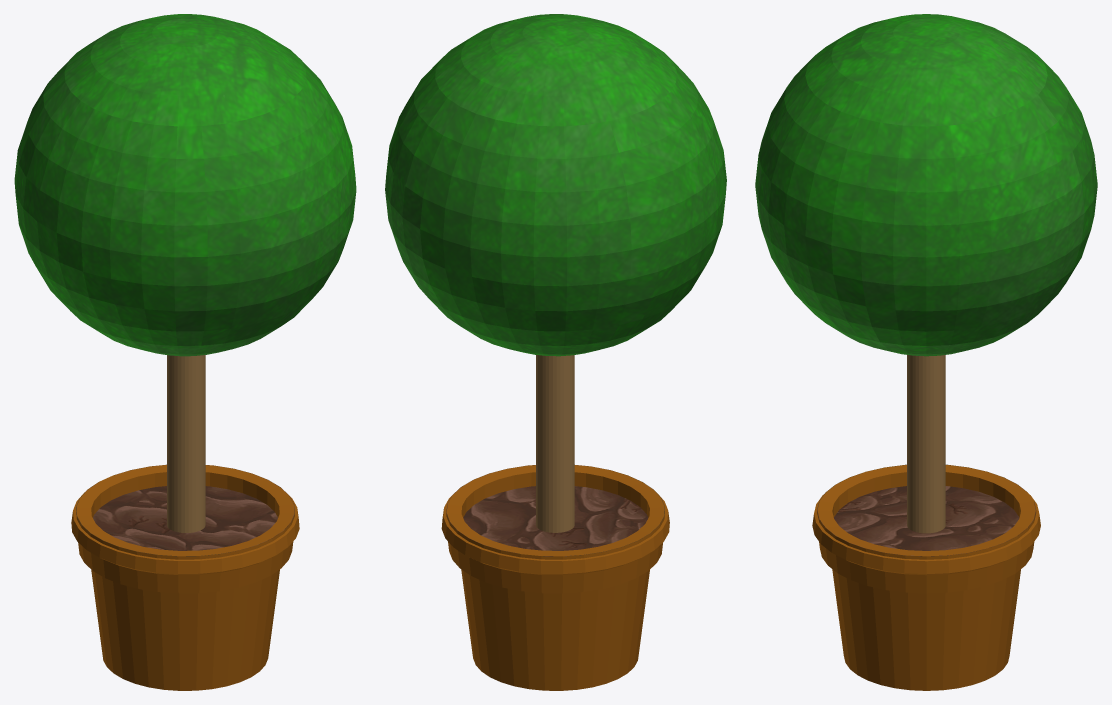
File: blume2.fbx
The picture shows the model from 3 angles, left to right: view 1: azimuth 30°, elevation 25°; view 2: azimuth 150°, elevation 25°; view 3: azimuth 270°, elevation 25°; orthographic projection.
Parts seen in each view (by area): view 1: Circle; view 2: Circle; view 3: Circle.
Boxes of the visible parts, x1,y1,x2,y2 form: Circle: (14, 14, 356, 690); Circle: (385, 14, 726, 690); Circle: (755, 14, 1097, 690).
Bounding box in the file's own units: 200 × 403 × 200.
Materials: 1 (1 with a texture image).
